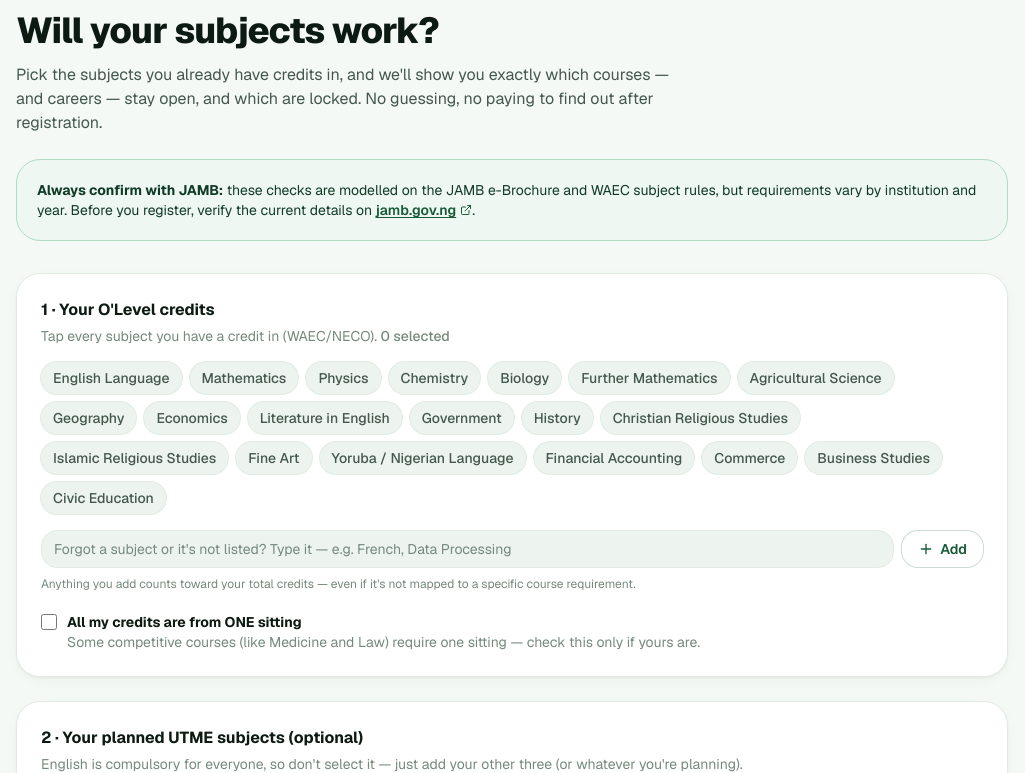
Scenario: SubjectChecker › removes a custom subject with its remove button
Step 1. Replace the text in the field named "Add a subject not listed" with "computer studies" → [468, 549], box [41,530,894,568]
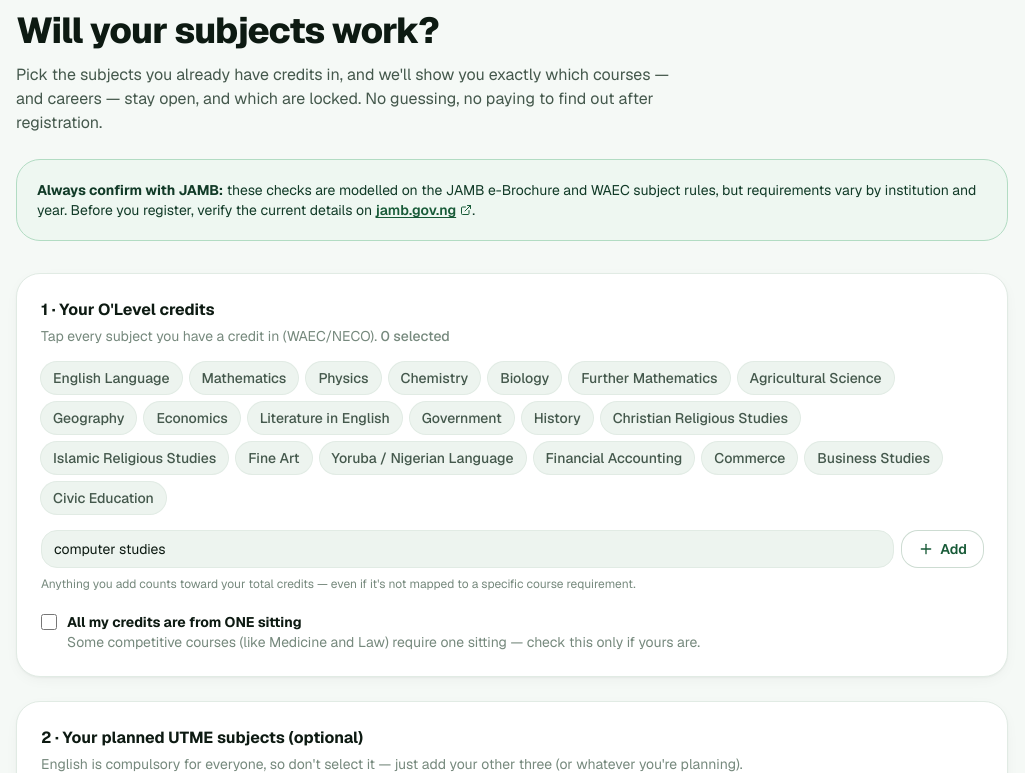
Step 2. Click the button "Add" → [943, 549], box [902,531,983,567]
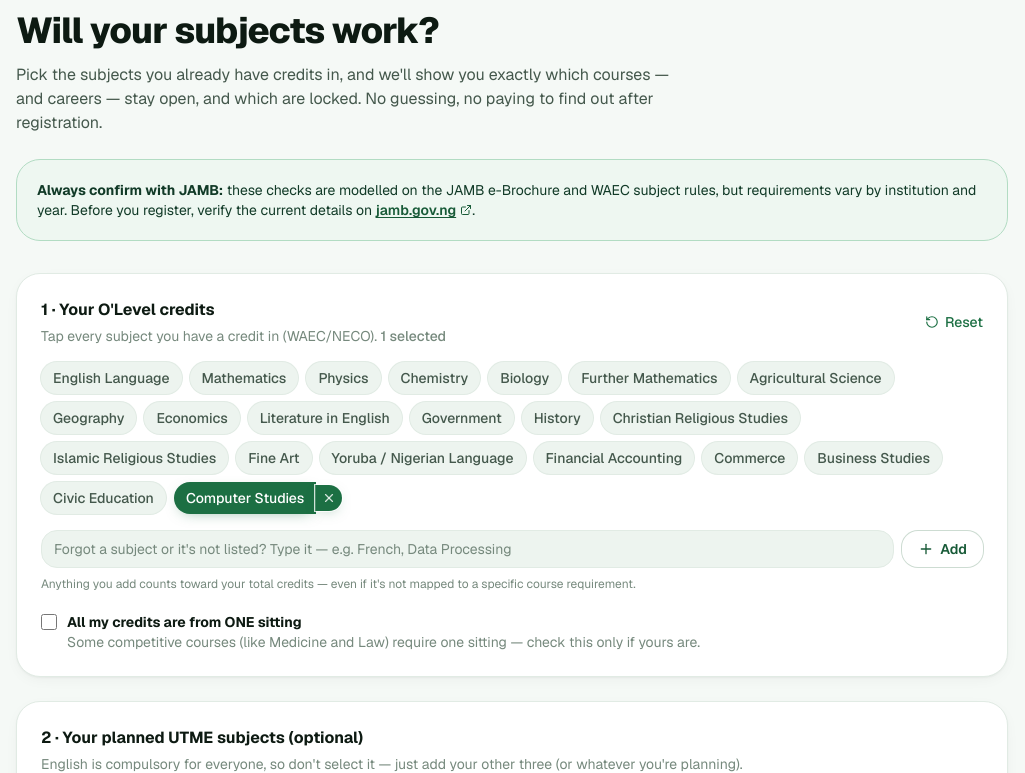
Step 3. Click the button named "Remove Computer Studies" → [329, 498], box [315,485,342,511]
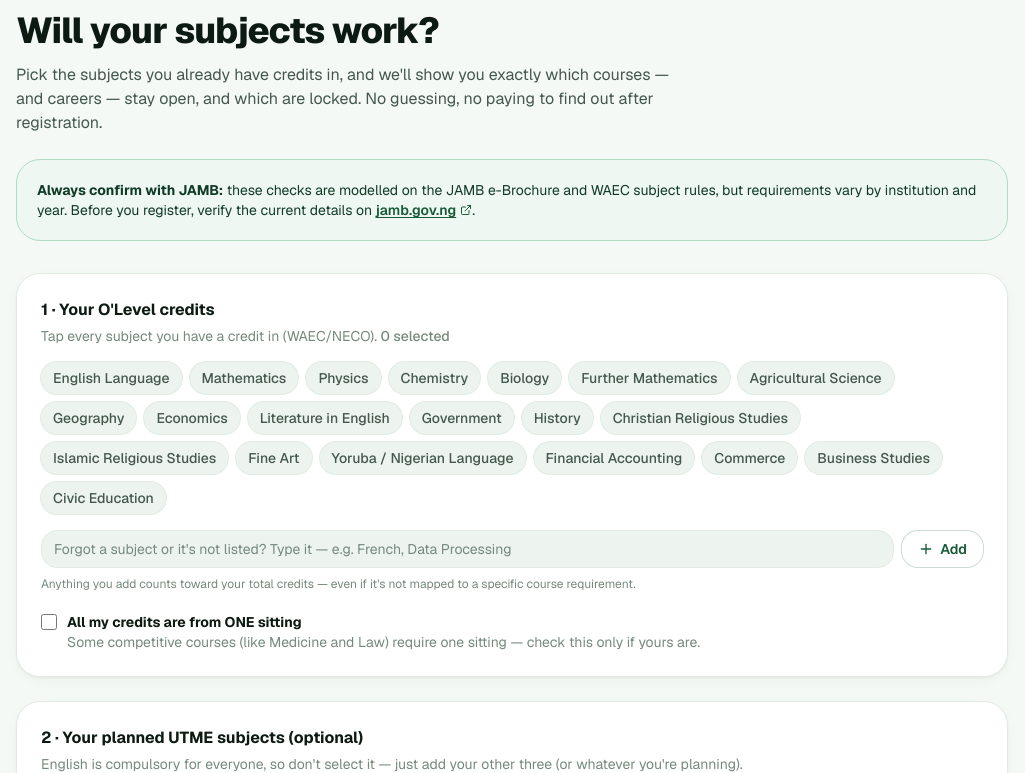
expect the button "Computer Studies" is gone: met
expect the text "0 selected" is shown: met, box [380,327,450,345]
